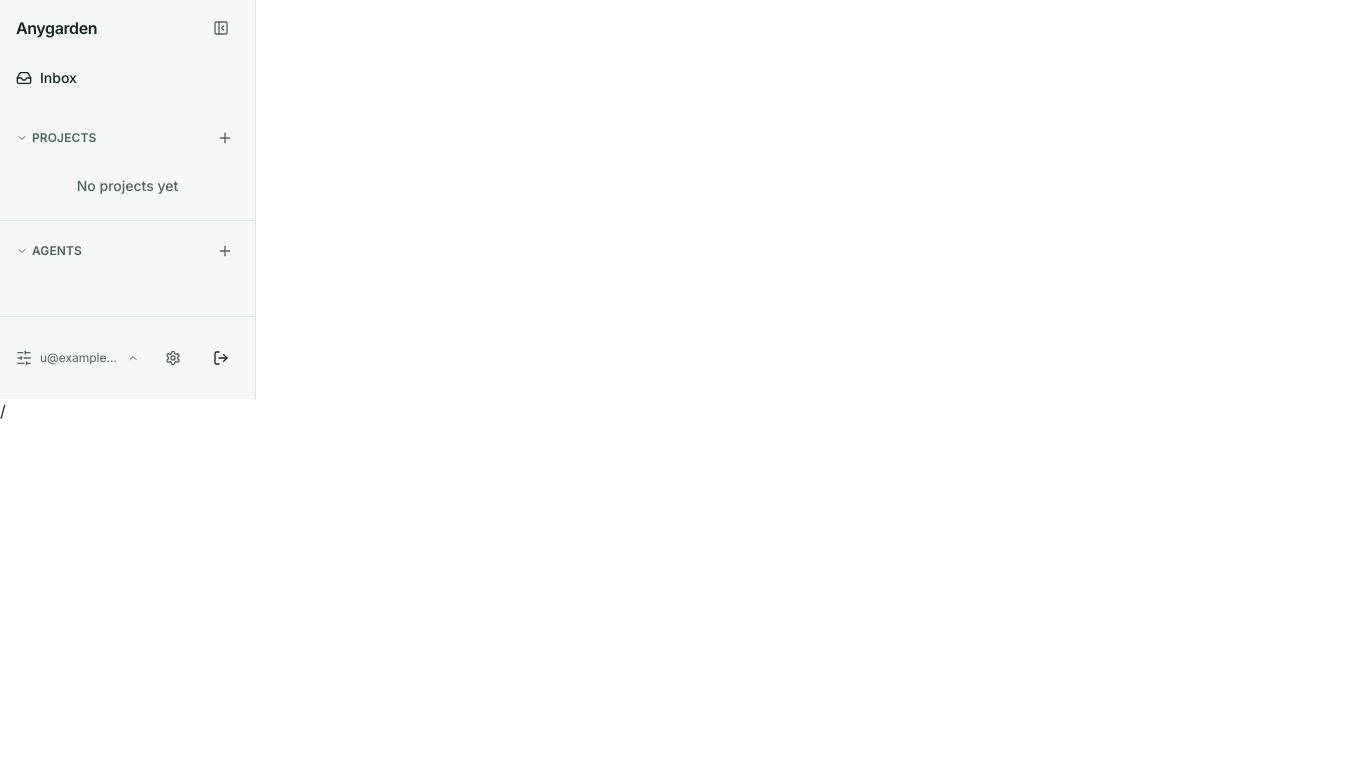
Test: Sidebar — add agent entry point › shows the add-agent action in the agents header for admins, even with no agents yet
The image size is (1366, 768).
Click the button named "Add agent".
click(225, 251)  # box [203, 229, 247, 273]
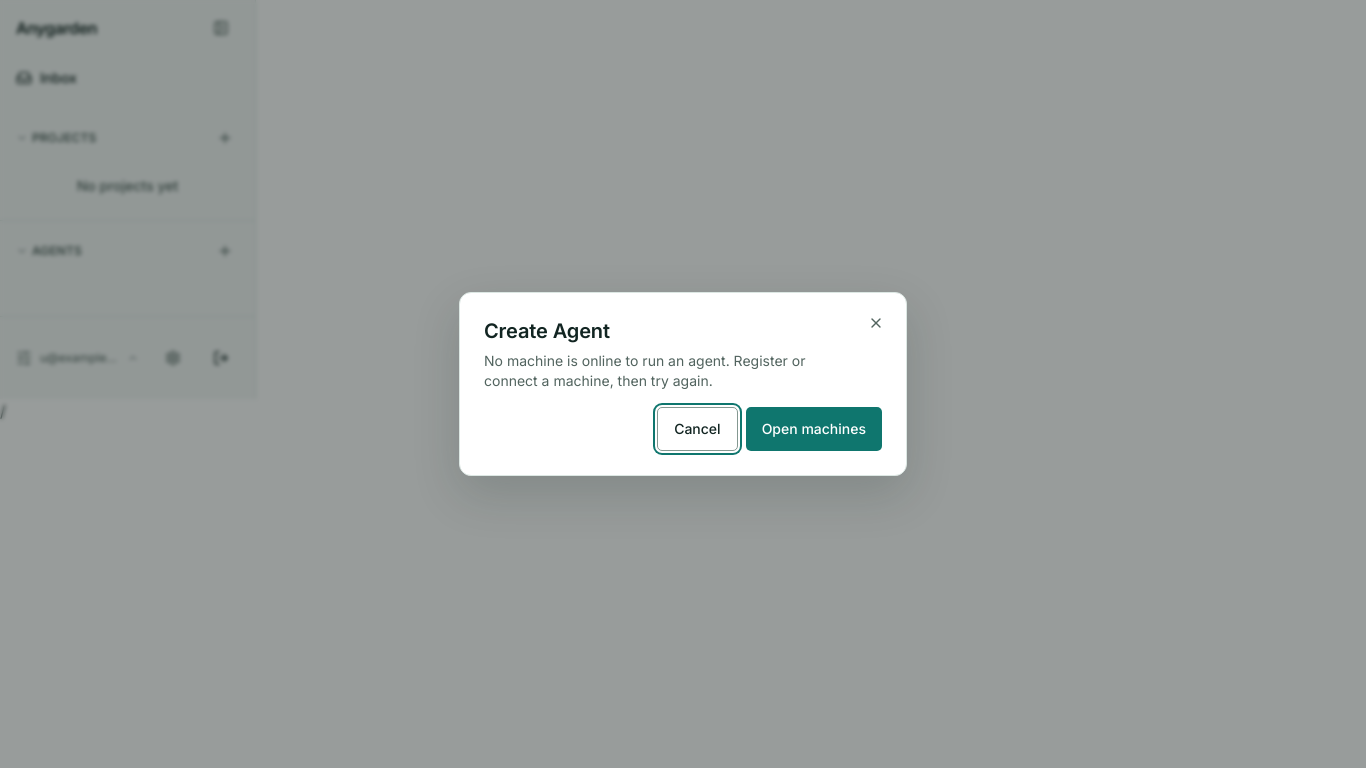
expect the dialog shows "Create Agent": met, box [484, 319, 610, 343]
